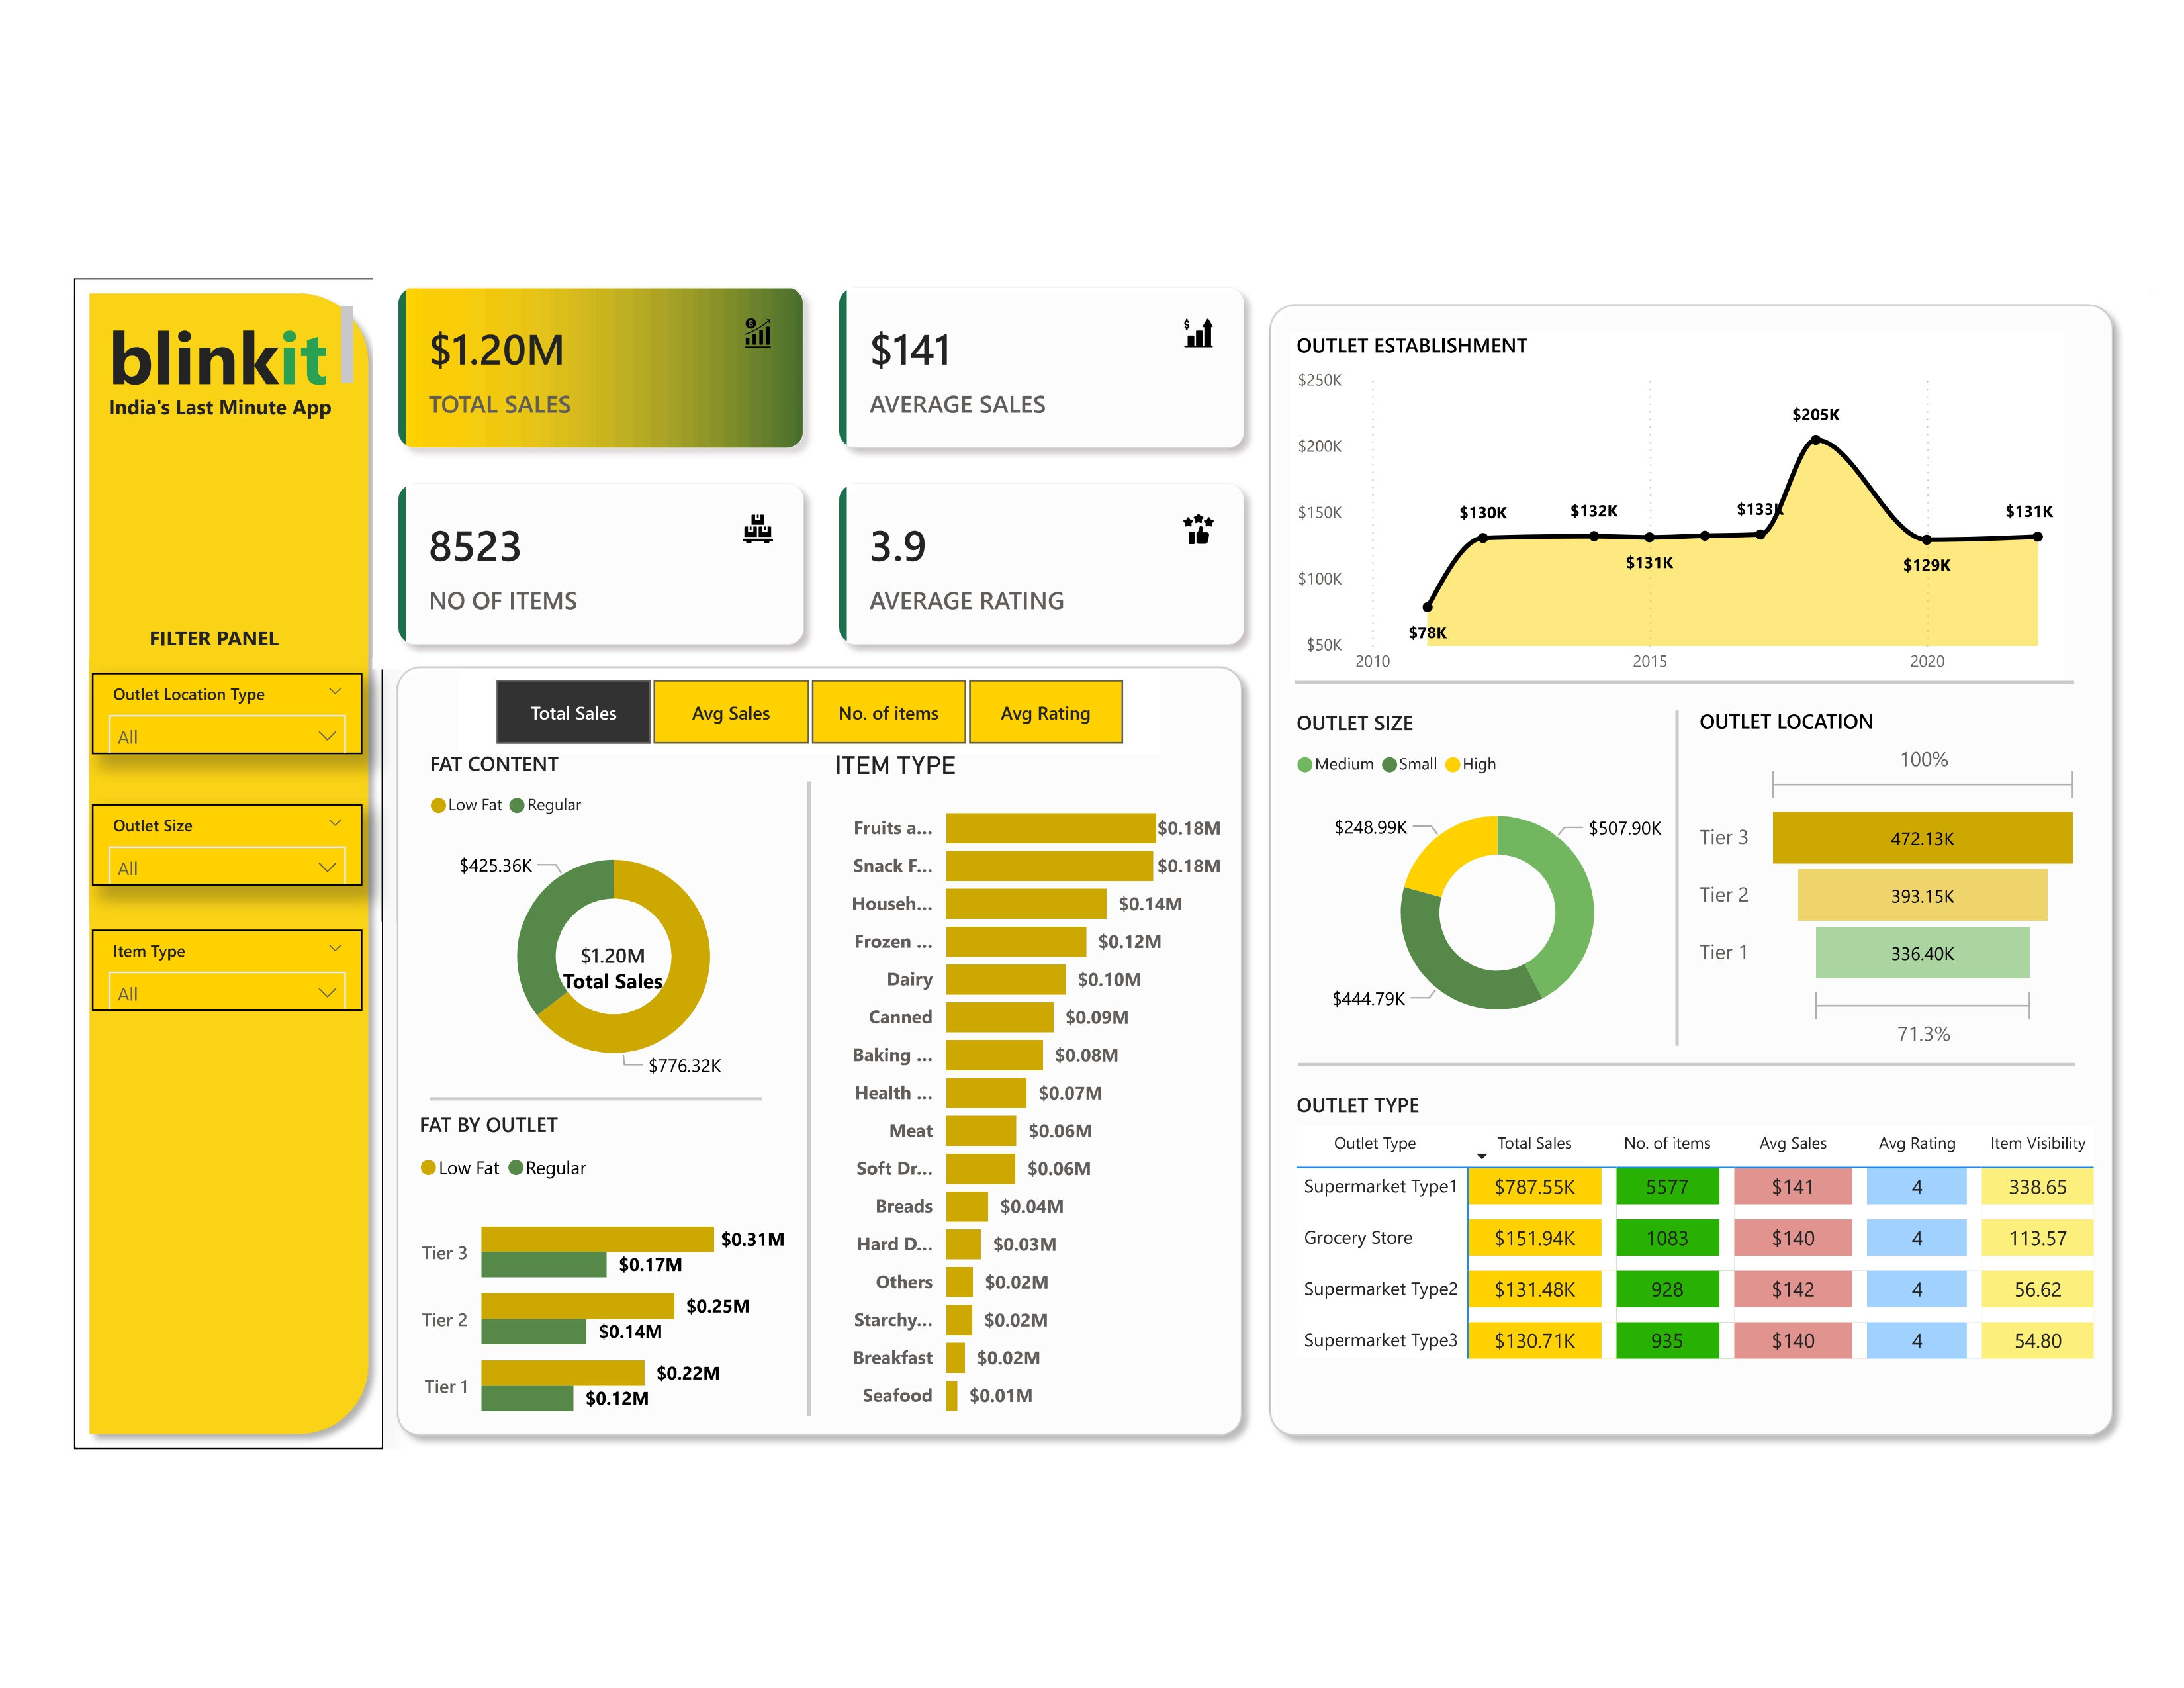

The page's visual inventory and layout, read from the dashboard file:
{"tool":"powerbi","page":{"name":"Page 1","canvas":[1400,800],"ordinal":0},"visuals":[{"type":"shape","box":[25,25,205,775],"z":0},{"type":"textbox","box":[42.5,37.5,172.5,67.5],"z":1000},{"type":"textbox","box":[42.5,96.2,205,40],"z":2000},{"type":"cardVisual","fields":{"Data":["BlinkIT Grocery Data.Total Sales","BlinkIT Grocery Data.Avg Sales","BlinkIT Grocery Data.No. of items","BlinkIT Grocery Data.Avg Rating"]},"box":[222.5,13.8,595,270],"z":3000},{"type":"shape","box":[230,272.5,577.5,527.5],"z":4000},{"type":"donutChart","title":"FAT CONTENT","fields":{"Y":["BlinkIT Grocery Data.Total Sales"],"Category":["BlinkIT Grocery Data.Item Fat Content"]},"box":[255.7,337.1,252.9,230],"z":5000},{"type":"slicer","title":"FAT CONTENT","fields":{"Values":["Metrics.Metrics"]},"box":[278.8,283.8,465,56.2],"z":6000},{"type":"cardVisual","fields":{"Data":["BlinkIT Grocery Data.Total Sales"]},"box":[330,445.7,104.3,64.3],"z":7000},{"type":"clusteredBarChart","title":"FAT BY OUTLET","fields":{"Y":["BlinkIT Grocery Data.Total Sales"],"Category":["BlinkIT Grocery Data.Outlet Location Type"],"Series":["BlinkIT Grocery Data.Item Fat Content"]},"box":[248.6,575.7,252.9,222.9],"z":8000},{"type":"shape","box":[261.4,558.6,220,18.6],"z":9000},{"type":"shape","box":[500,357.5,23.8,420],"z":10000},{"type":"barChart","title":"ITEM TYPE","fields":{"Y":["BlinkIT Grocery Data.Total Sales"],"Category":["BlinkIT Grocery Data.Item Type"]},"box":[524.3,337.1,265.7,452.9],"z":11000},{"type":"shape","box":[807.5,32.5,577.5,767.5],"z":12000},{"type":"lineChart","title":"OUTLET ESTABLISHMENT","fields":{"Category":["BlinkIT Grocery Data.Outlet Establishment Year"],"Y":["BlinkIT Grocery Data.Total Sales"]},"box":[830,60,512.5,235],"z":13000},{"type":"shape","box":[834.3,284.3,515.7,17.1],"z":14000},{"type":"donutChart","title":"OUTLET SIZE","fields":{"Y":["BlinkIT Grocery Data.Total Sales"],"Category":["BlinkIT Grocery Data.Outlet Size","BlinkIT Grocery Data.Item Fat Content"]},"box":[830,310,275.7,225.7],"z":15000},{"type":"shape","box":[1081.4,311.4,11.4,221.4],"z":16000},{"type":"funnel","title":"OUTLET LOCATION","fields":{"Y":["Sum(BlinkIT Grocery Data.Sales)"],"Category":["BlinkIT Grocery Data.Outlet Location Type"]},"box":[1097.1,308.6,261.4,230],"z":17000},{"type":"shape","box":[835.7,537.1,515.7,17.1],"z":18000},{"type":"pivotTable","title":"OUTLET TYPE","fields":{"Values":["BlinkIT Grocery Data.Total Sales","BlinkIT Grocery Data.No. of items","BlinkIT Grocery Data.Avg Sales","BlinkIT Grocery Data.Avg Rating","Sum(BlinkIT Grocery Data.Item Visibility)"],"Rows":["BlinkIT Grocery Data.Outlet Type"]},"box":[830,562.9,542.9,198.6],"z":19000},{"type":"slicer","fields":{"Values":["BlinkIT Grocery Data.Outlet Location Type"]},"box":[37.1,285.7,178.6,54.3],"z":20000},{"type":"slicer","fields":{"Values":["BlinkIT Grocery Data.Outlet Size"]},"box":[37.1,372.9,178.6,54.3],"z":21000},{"type":"slicer","fields":{"Values":["BlinkIT Grocery Data.Item Type"]},"box":[37.1,455.7,178.6,54.3],"z":22000},{"type":"textbox","box":[70,248.6,115.7,35.7],"z":22001}]}

Visuals, with their boxes on the page's 1400x800 design canvas (x1, y1, x2, y2). These are canvas units, not pixel positions in the 2184x1688 screenshot, which may show the page scaled, cropped or inside an application window:
shape: (x1=25, y1=25, x2=230, y2=800)
textbox: (x1=42, y1=38, x2=215, y2=105)
textbox: (x1=42, y1=96, x2=248, y2=136)
cardVisual - BlinkIT Grocery Data.Total Sales x BlinkIT Grocery Data.Avg Sales: (x1=222, y1=14, x2=818, y2=284)
shape: (x1=230, y1=272, x2=808, y2=800)
"FAT CONTENT" donutChart: (x1=256, y1=337, x2=509, y2=567)
"FAT CONTENT" slicer: (x1=279, y1=284, x2=744, y2=340)
cardVisual - BlinkIT Grocery Data.Total Sales: (x1=330, y1=446, x2=434, y2=510)
"FAT BY OUTLET" clusteredBarChart: (x1=249, y1=576, x2=502, y2=799)
shape: (x1=261, y1=559, x2=481, y2=577)
shape: (x1=500, y1=358, x2=524, y2=778)
"ITEM TYPE" barChart: (x1=524, y1=337, x2=790, y2=790)
shape: (x1=808, y1=32, x2=1385, y2=800)
"OUTLET ESTABLISHMENT" lineChart: (x1=830, y1=60, x2=1342, y2=295)
shape: (x1=834, y1=284, x2=1350, y2=301)
"OUTLET SIZE" donutChart: (x1=830, y1=310, x2=1106, y2=536)
shape: (x1=1081, y1=311, x2=1093, y2=533)
"OUTLET LOCATION" funnel: (x1=1097, y1=309, x2=1358, y2=539)
shape: (x1=836, y1=537, x2=1351, y2=554)
"OUTLET TYPE" pivotTable: (x1=830, y1=563, x2=1373, y2=762)
slicer - BlinkIT Grocery Data.Outlet Location Type: (x1=37, y1=286, x2=216, y2=340)
slicer - BlinkIT Grocery Data.Outlet Size: (x1=37, y1=373, x2=216, y2=427)
slicer - BlinkIT Grocery Data.Item Type: (x1=37, y1=456, x2=216, y2=510)
textbox: (x1=70, y1=249, x2=186, y2=284)
